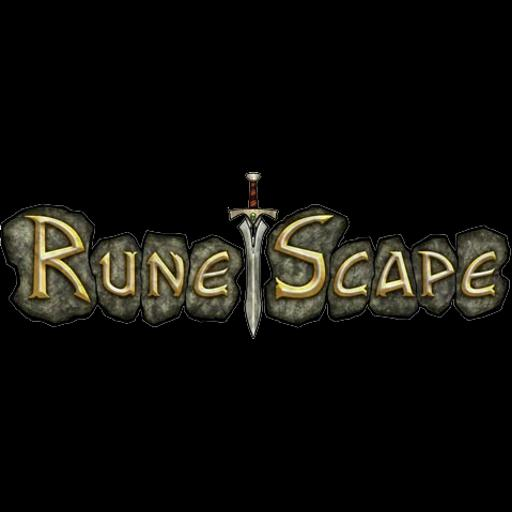RuneScape: (0, 172, 511, 339)
